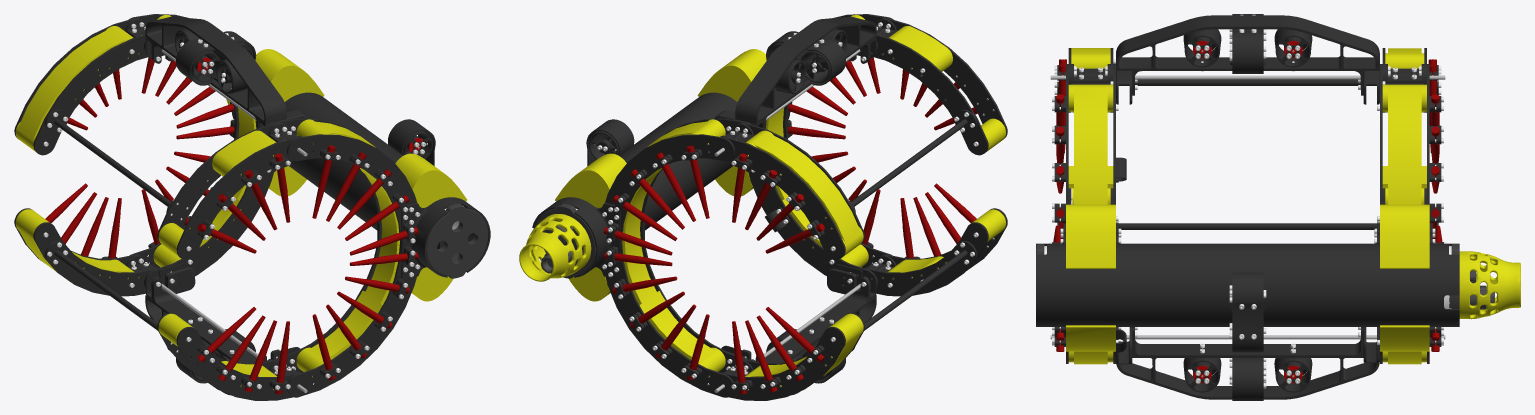
The model's file is COALA-original.glb.
The picture shows the model from 3 angles, left to right: view 1: azimuth 30°, elevation 25°; view 2: azimuth 150°, elevation 25°; view 3: azimuth 270°, elevation 25°; orthographic projection. The views are drawn at different scales.
Visible parts, largest first — view 1: SubC-01-0005/SubC-02-0033; view 2: SubC-01-0005/SubC-02-0033; view 3: SubC-01-0005/SubC-02-0033.
Part boxes in pixels (x1,y1,x2,y2): SubC-01-0005/SubC-02-0033: (14,14,490,400); SubC-01-0005/SubC-02-0033: (519,14,1007,400); SubC-01-0005/SubC-02-0033: (1036,14,1520,400).
Bounding box in the file's own units: 313 × 303 × 357.
Materials: 2 (2 with a texture image).
